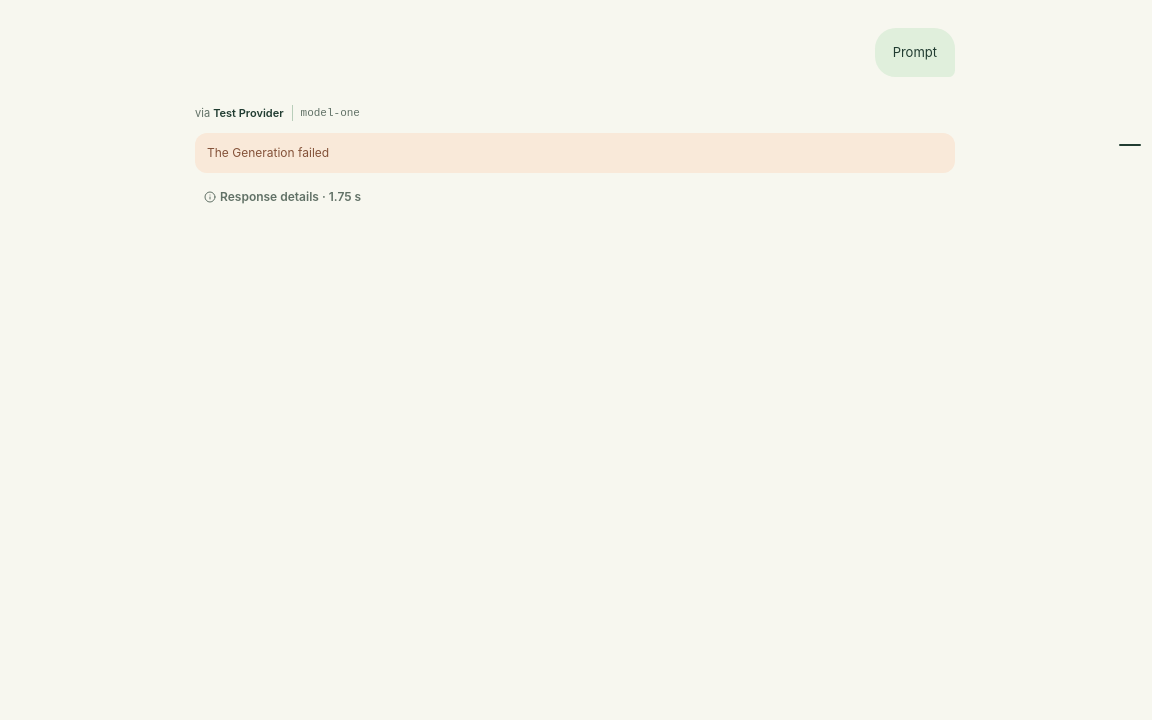
live failed response details use the matching attempt's recorded metrics
Click the button "Response details · 1.75 s" at (283, 197), box [195, 185, 370, 209]
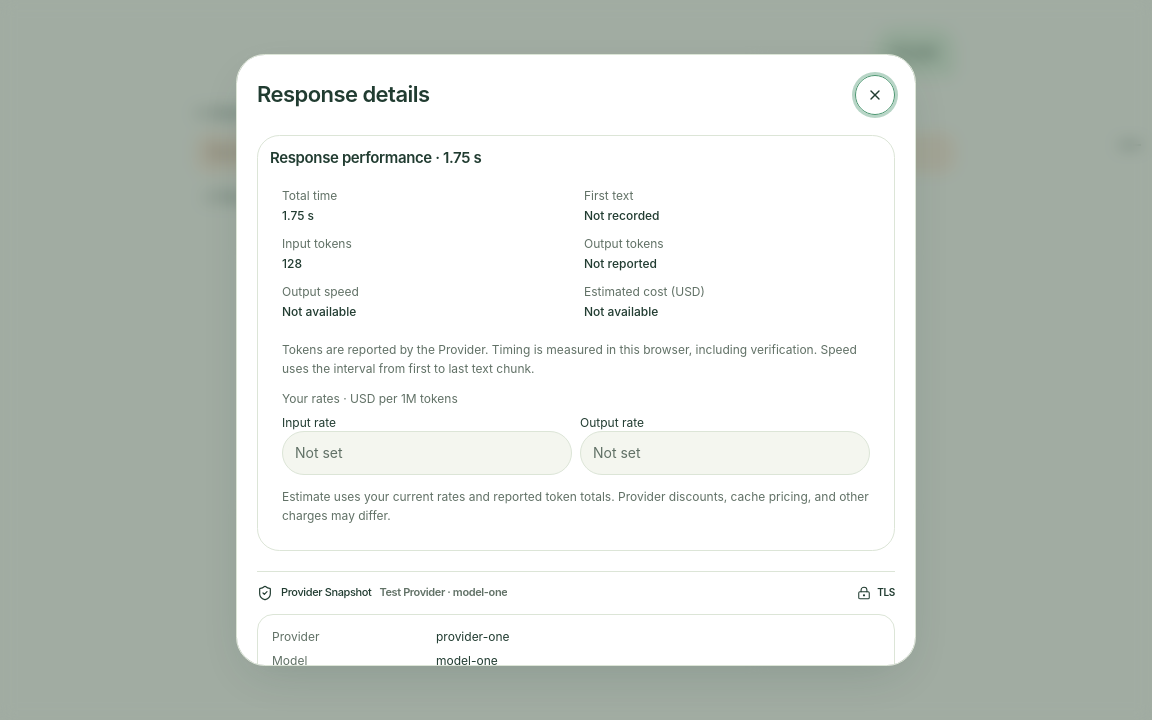
Result: the text "128" is shown at [282, 256, 302, 271]
Result: the heading "Response performance · 1.75 s" is shown at [270, 148, 481, 167]
